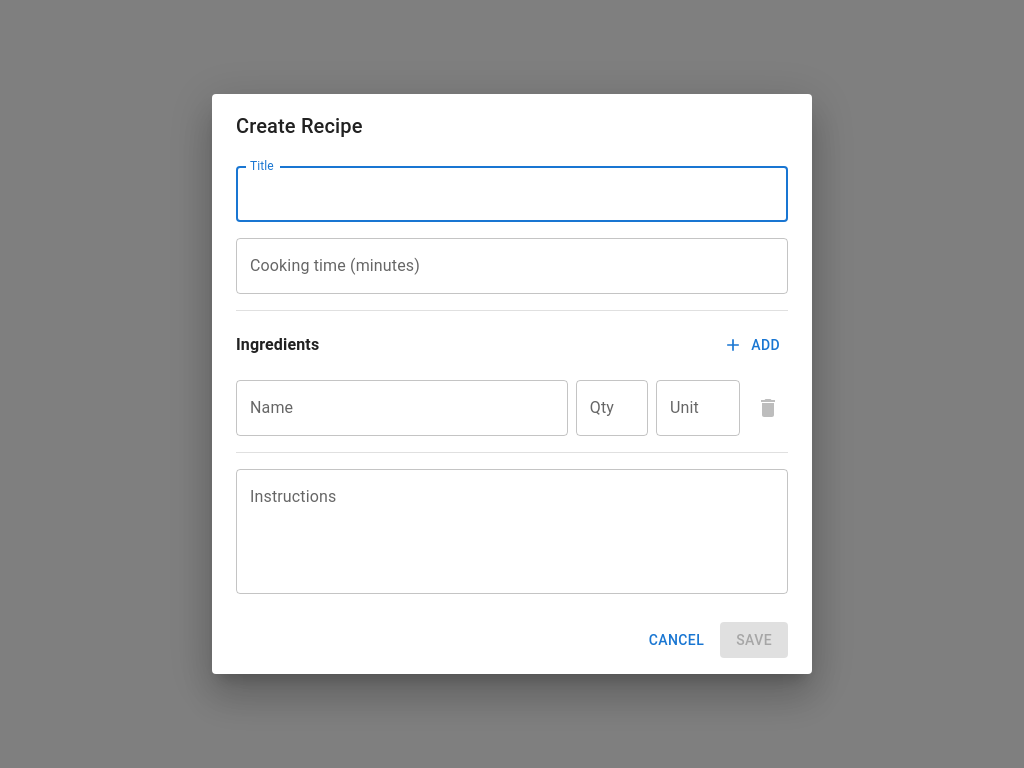
CreateRecipeDialog › shows an error if backend returns non-OK
Type "Test" into the field labelled "Title". click: [512, 194]
box: x1=236 y1=166 x2=788 y2=222
Type "10" into the field labelled "Cooking time (minutes)". click: [512, 266]
box: x1=236 y1=238 x2=788 y2=294
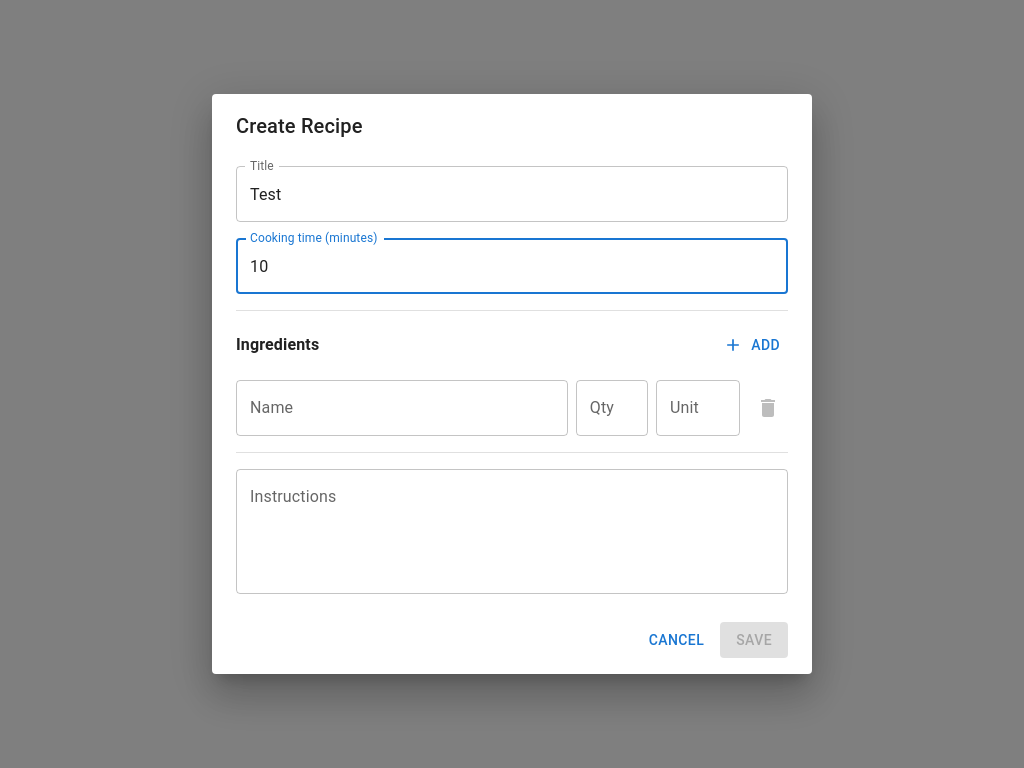
Type "tomato" into the field labelled "Name". click: [402, 408]
box: x1=236 y1=380 x2=568 y2=436
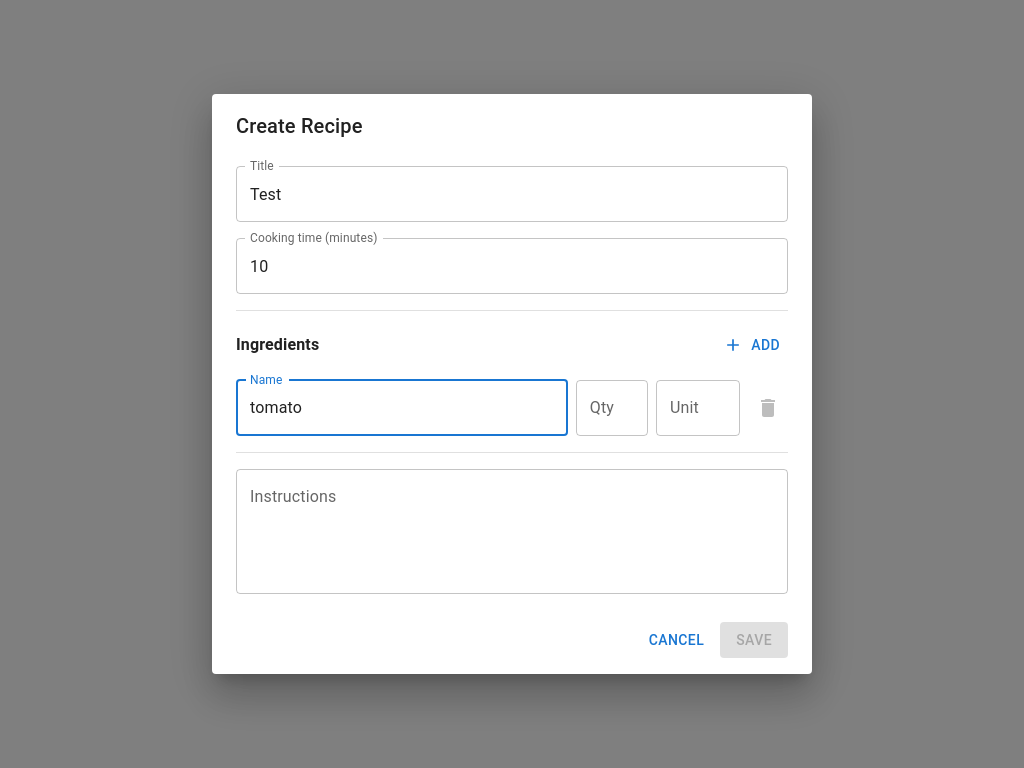
Type "1" into the field labelled "Qty". click: [612, 408]
box: x1=576 y1=380 x2=648 y2=436
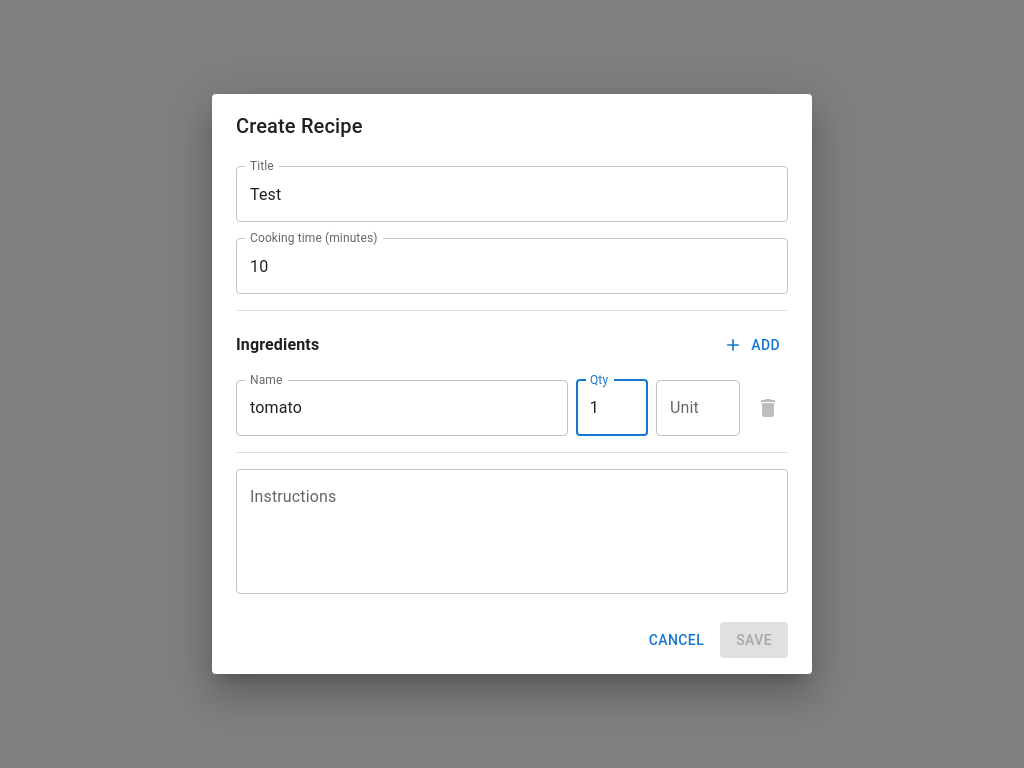
Type "whole" into the field labelled "Unit". click: [698, 408]
box: x1=656 y1=380 x2=740 y2=436
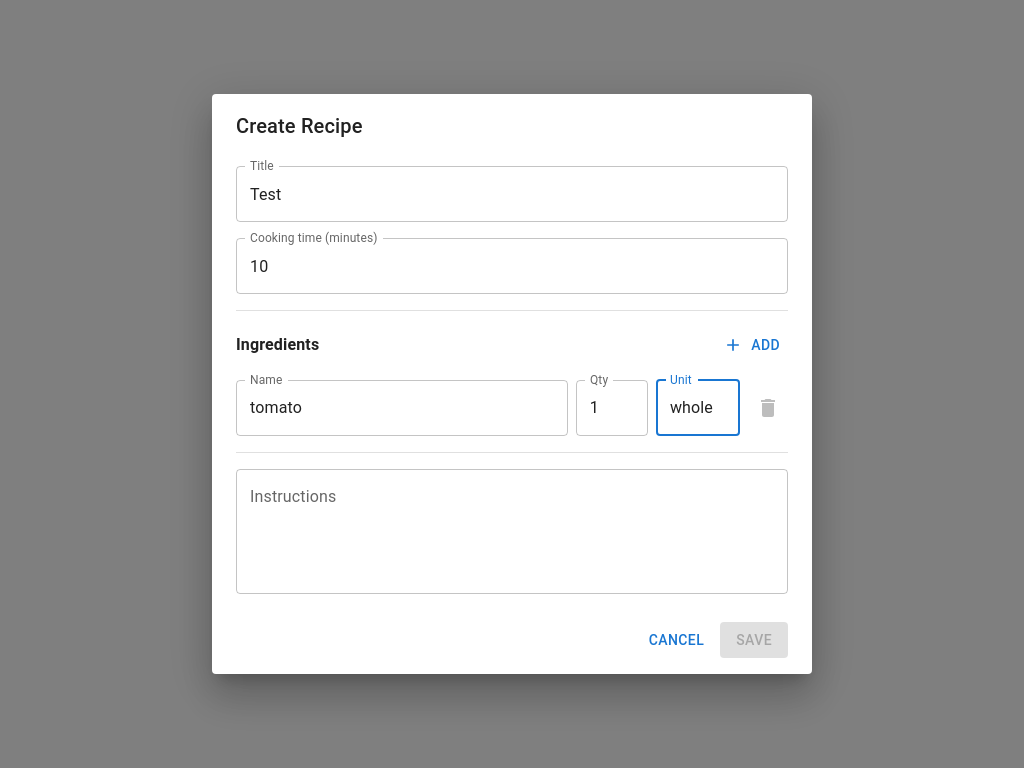
Type "Do stuff." into the text box labelled "Instructions". click: [512, 531]
box: x1=250 y1=485 x2=774 y2=577
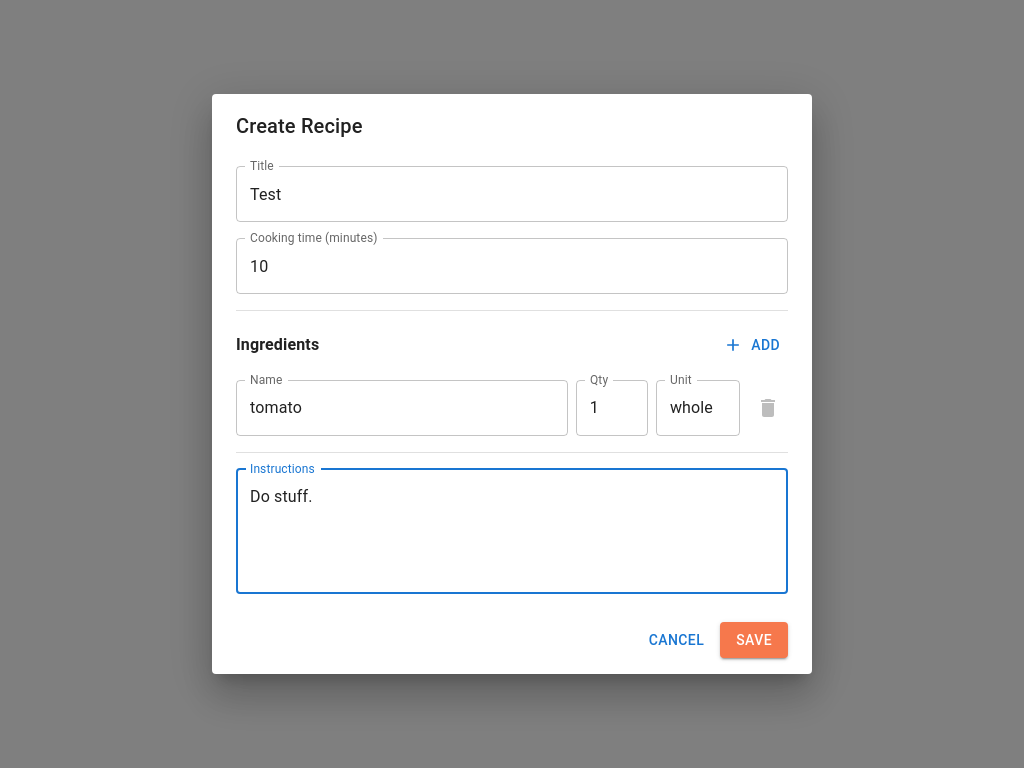
Click the button "Save". click: [754, 640]
box: x1=720 y1=622 x2=788 y2=658
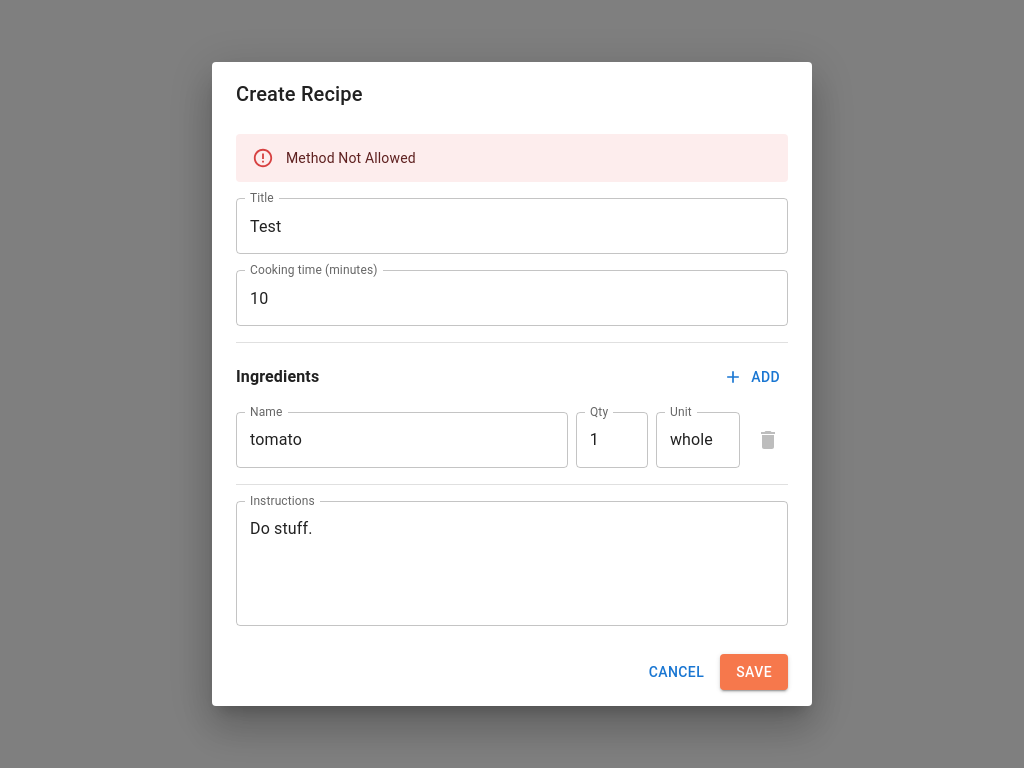
Expected: the text "Method Not Allowed" is shown, x1=286 y1=150 x2=416 y2=166
